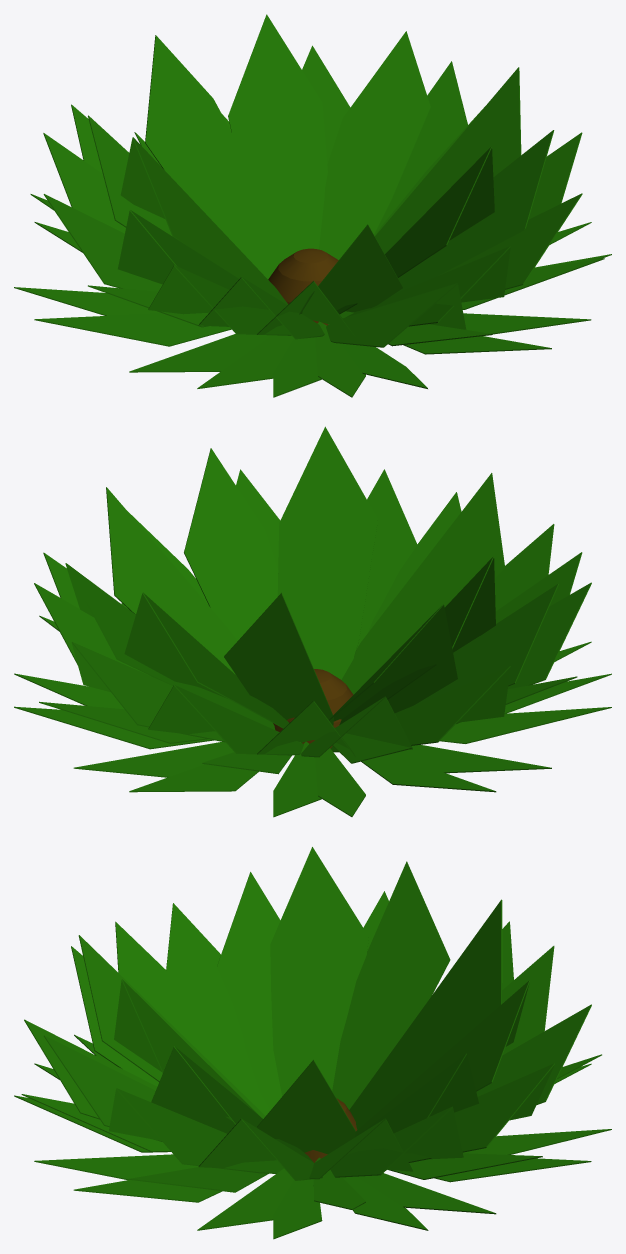
File: Plant2.fbx
The picture shows the model from 3 angles, top to bottom: view 1: azimuth 30°, elevation 25°; view 2: azimuth 150°, elevation 25°; view 3: azimuth 270°, elevation 25°; orthographic projection.
Parts seen in each view (by area): view 1: Plant1; view 2: Plant1; view 3: Plant1.
Boxes of the visible parts, left/top/right/bottom form: Plant1: left=14, top=14, right=611, bottom=397; Plant1: left=14, top=426, right=611, bottom=817; Plant1: left=14, top=847, right=611, bottom=1239.
Bounding box in the file's own units: 5.52 × 2.44 × 5.52.
